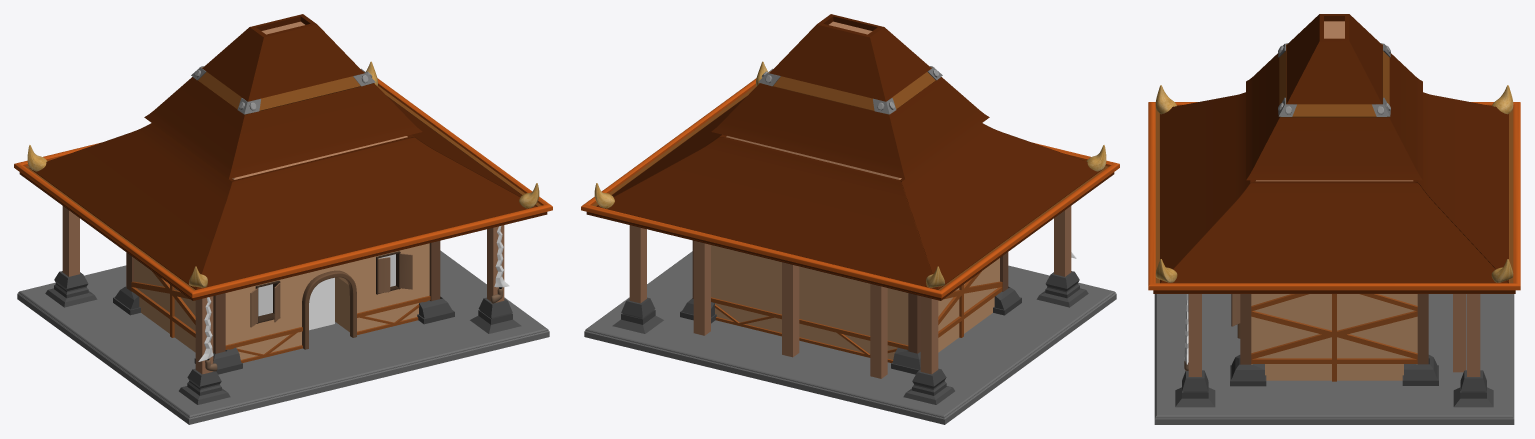
File: rumah_joglo_indonesia__option_2.fbx
3 views of the same model, side by side, from view 1: azimuth 30°, elevation 25°; view 2: azimuth 150°, elevation 25°; view 3: azimuth 270°, elevation 25° (orthographic). The views are drawn at different scales.
Visible parts, largest first — view 1: node_f4082432_fd75_4c82_a1ce_2805b1600173_mesh0, node_b13b7543_0008_4a00_98bb_06781038223d_mesh0, node_b2ddde0f_48be_4333_a005_841442228c25_mesh0, node_a816ef8f_d980_4b08_bd79_0726b0cee668_mesh0, node_19de6fae_5b0c_493f_9159_c7154a2e126d_mesh0, node_bd30d2a9_138f_4e16_99bf_1bbdc5fe1acf_mesh0, node_6cbb267c_a88b_4b75_85f6_2279c5f5112b_mesh0, node_eae24dd8_bb77_41fc_8dd5_329c9d7a3fee_mesh0, node_1e64b070_38ef_4ff2_afe5_75d5aa5af933_mesh0, node_14155fa5_d4d4_488f_a5fd_91bbe2099307_mesh0, node_3794220c_f1b8_4fbd_87a1_7aadb678dda6_mesh0, node_86d7719c_77a5_4b1c_a7cb_3796a31a0032_mesh0 (+5 smaller); view 2: node_f4082432_fd75_4c82_a1ce_2805b1600173_mesh0, node_b13b7543_0008_4a00_98bb_06781038223d_mesh0, node_b2ddde0f_48be_4333_a005_841442228c25_mesh0, node_a816ef8f_d980_4b08_bd79_0726b0cee668_mesh0, node_6054d3db_537b_46f2_bdb9_d4ef92bb2002_mesh0, node_bd30d2a9_138f_4e16_99bf_1bbdc5fe1acf_mesh0, node_19de6fae_5b0c_493f_9159_c7154a2e126d_mesh0, node_6cbb267c_a88b_4b75_85f6_2279c5f5112b_mesh0, node_25b9e1ce_9d5b_4470_b130_bb2f3de2620c_mesh0, node_eae24dd8_bb77_41fc_8dd5_329c9d7a3fee_mesh0, node_3794220c_f1b8_4fbd_87a1_7aadb678dda6_mesh0, node_1e64b070_38ef_4ff2_afe5_75d5aa5af933_mesh0 (+3 smaller); view 3: node_f4082432_fd75_4c82_a1ce_2805b1600173_mesh0, node_b13b7543_0008_4a00_98bb_06781038223d_mesh0, node_b2ddde0f_48be_4333_a005_841442228c25_mesh0, node_a816ef8f_d980_4b08_bd79_0726b0cee668_mesh0, node_3794220c_f1b8_4fbd_87a1_7aadb678dda6_mesh0, node_bd30d2a9_138f_4e16_99bf_1bbdc5fe1acf_mesh0, node_19de6fae_5b0c_493f_9159_c7154a2e126d_mesh0, node_6cbb267c_a88b_4b75_85f6_2279c5f5112b_mesh0, node_eae24dd8_bb77_41fc_8dd5_329c9d7a3fee_mesh0, node_1e64b070_38ef_4ff2_afe5_75d5aa5af933_mesh0, node_9fb28853_7949_4343_9470_b3ccc6c1db9f_mesh0, node_72a0b7ac_5429_405a_bbd4_f66c33facef0_mesh0 (+3 smaller).
Boxes of the visible parts, bbox=[...] form: node_f4082432_fd75_4c82_a1ce_2805b1600173_mesh0: bbox=[19, 14, 547, 300]; node_b13b7543_0008_4a00_98bb_06781038223d_mesh0: bbox=[17, 250, 549, 424]; node_b2ddde0f_48be_4333_a005_841442228c25_mesh0: bbox=[134, 243, 429, 359]; node_a816ef8f_d980_4b08_bd79_0726b0cee668_mesh0: bbox=[14, 78, 552, 298]; node_19de6fae_5b0c_493f_9159_c7154a2e126d_mesh0: bbox=[45, 271, 521, 404]; node_bd30d2a9_138f_4e16_99bf_1bbdc5fe1acf_mesh0: bbox=[62, 206, 504, 374]; node_6cbb267c_a88b_4b75_85f6_2279c5f5112b_mesh0: bbox=[198, 67, 373, 114]; node_eae24dd8_bb77_41fc_8dd5_329c9d7a3fee_mesh0: bbox=[113, 286, 454, 374]; node_1e64b070_38ef_4ff2_afe5_75d5aa5af933_mesh0: bbox=[126, 241, 440, 353]; node_14155fa5_d4d4_488f_a5fd_91bbe2099307_mesh0: bbox=[225, 295, 430, 362]; node_3794220c_f1b8_4fbd_87a1_7aadb678dda6_mesh0: bbox=[131, 271, 195, 337]; node_86d7719c_77a5_4b1c_a7cb_3796a31a0032_mesh0: bbox=[302, 270, 356, 349]; node_f4082432_fd75_4c82_a1ce_2805b1600173_mesh0: bbox=[586, 14, 1114, 300]; node_b13b7543_0008_4a00_98bb_06781038223d_mesh0: bbox=[584, 251, 1116, 424]; node_b2ddde0f_48be_4333_a005_841442228c25_mesh0: bbox=[711, 245, 999, 359]; node_a816ef8f_d980_4b08_bd79_0726b0cee668_mesh0: bbox=[581, 78, 1119, 298]; node_6054d3db_537b_46f2_bdb9_d4ef92bb2002_mesh0: bbox=[693, 241, 887, 378]; node_bd30d2a9_138f_4e16_99bf_1bbdc5fe1acf_mesh0: bbox=[629, 206, 1071, 374]; node_19de6fae_5b0c_493f_9159_c7154a2e126d_mesh0: bbox=[612, 271, 1088, 404]; node_6cbb267c_a88b_4b75_85f6_2279c5f5112b_mesh0: bbox=[760, 67, 935, 114]; node_25b9e1ce_9d5b_4470_b130_bb2f3de2620c_mesh0: bbox=[711, 297, 908, 362]; node_eae24dd8_bb77_41fc_8dd5_329c9d7a3fee_mesh0: bbox=[680, 286, 1021, 374]; node_3794220c_f1b8_4fbd_87a1_7aadb678dda6_mesh0: bbox=[938, 271, 1002, 337]; node_1e64b070_38ef_4ff2_afe5_75d5aa5af933_mesh0: bbox=[692, 240, 1008, 353]; node_f4082432_fd75_4c82_a1ce_2805b1600173_mesh0: bbox=[1153, 14, 1515, 293]; node_b13b7543_0008_4a00_98bb_06781038223d_mesh0: bbox=[1154, 294, 1514, 424]; node_b2ddde0f_48be_4333_a005_841442228c25_mesh0: bbox=[1251, 294, 1417, 380]; node_a816ef8f_d980_4b08_bd79_0726b0cee668_mesh0: bbox=[1148, 102, 1520, 290]; node_3794220c_f1b8_4fbd_87a1_7aadb678dda6_mesh0: bbox=[1251, 294, 1417, 381]; node_bd30d2a9_138f_4e16_99bf_1bbdc5fe1acf_mesh0: bbox=[1188, 294, 1480, 376]; node_19de6fae_5b0c_493f_9159_c7154a2e126d_mesh0: bbox=[1175, 370, 1493, 407]; node_6cbb267c_a88b_4b75_85f6_2279c5f5112b_mesh0: bbox=[1279, 44, 1389, 117]; node_eae24dd8_bb77_41fc_8dd5_329c9d7a3fee_mesh0: bbox=[1230, 355, 1438, 386]; node_1e64b070_38ef_4ff2_afe5_75d5aa5af933_mesh0: bbox=[1240, 294, 1428, 364]; node_9fb28853_7949_4343_9470_b3ccc6c1db9f_mesh0: bbox=[1155, 107, 1513, 283]; node_72a0b7ac_5429_405a_bbd4_f66c33facef0_mesh0: bbox=[1155, 85, 1513, 282].
Bounding box in the file's own units: 165 × 128 × 142.
23 materials, 1 textured.
